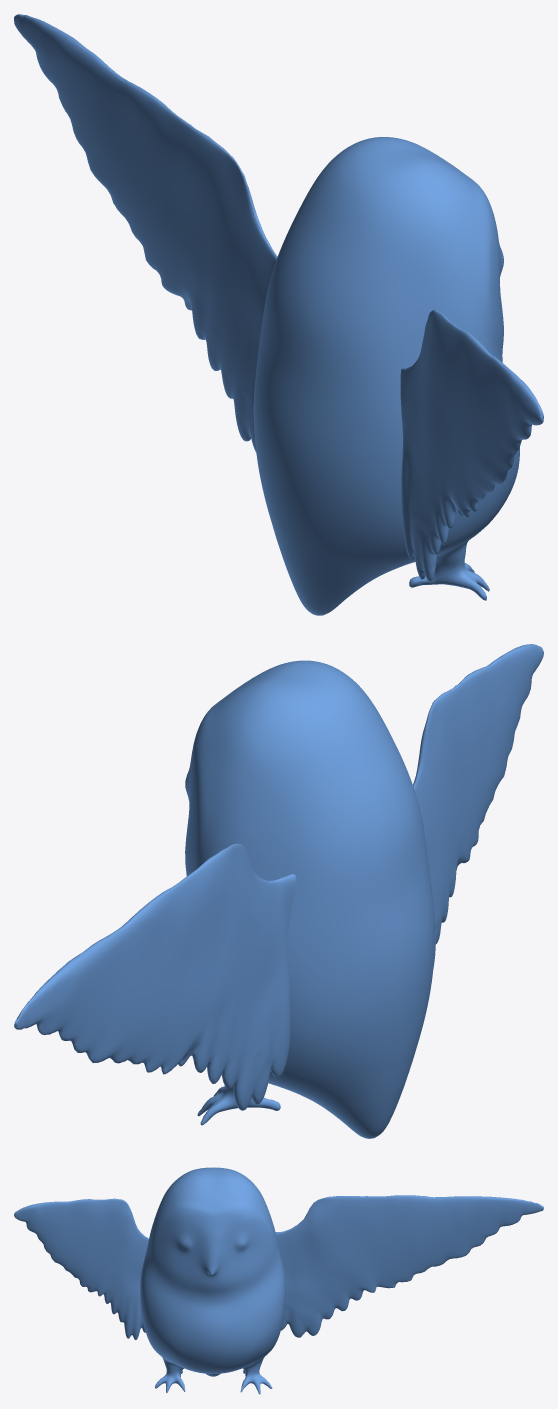
The model's file is SM_Owl_low.fbx.
3 views of the same model, one above another, from view 1: azimuth 30°, elevation 25°; view 2: azimuth 150°, elevation 25°; view 3: azimuth 270°, elevation 25° (orthographic). The views are drawn at different scales.
Parts seen in each view (by area): view 1: owl_body, long_wing, short_wing; view 2: owl_body, long_wing, short_wing; view 3: owl_body, long_wing, short_wing.
Part boxes in pixels (x1,y1,x2,y2): owl_body: [253, 137, 519, 615]; long_wing: [14, 14, 277, 452]; short_wing: [400, 309, 543, 581]; owl_body: [185, 660, 434, 1138]; long_wing: [14, 843, 296, 1110]; short_wing: [413, 644, 543, 968]; owl_body: [140, 1167, 285, 1394]; long_wing: [275, 1195, 543, 1337]; short_wing: [14, 1198, 148, 1339].
Size of the model in its own units: 58.83 by 110 by 238.
